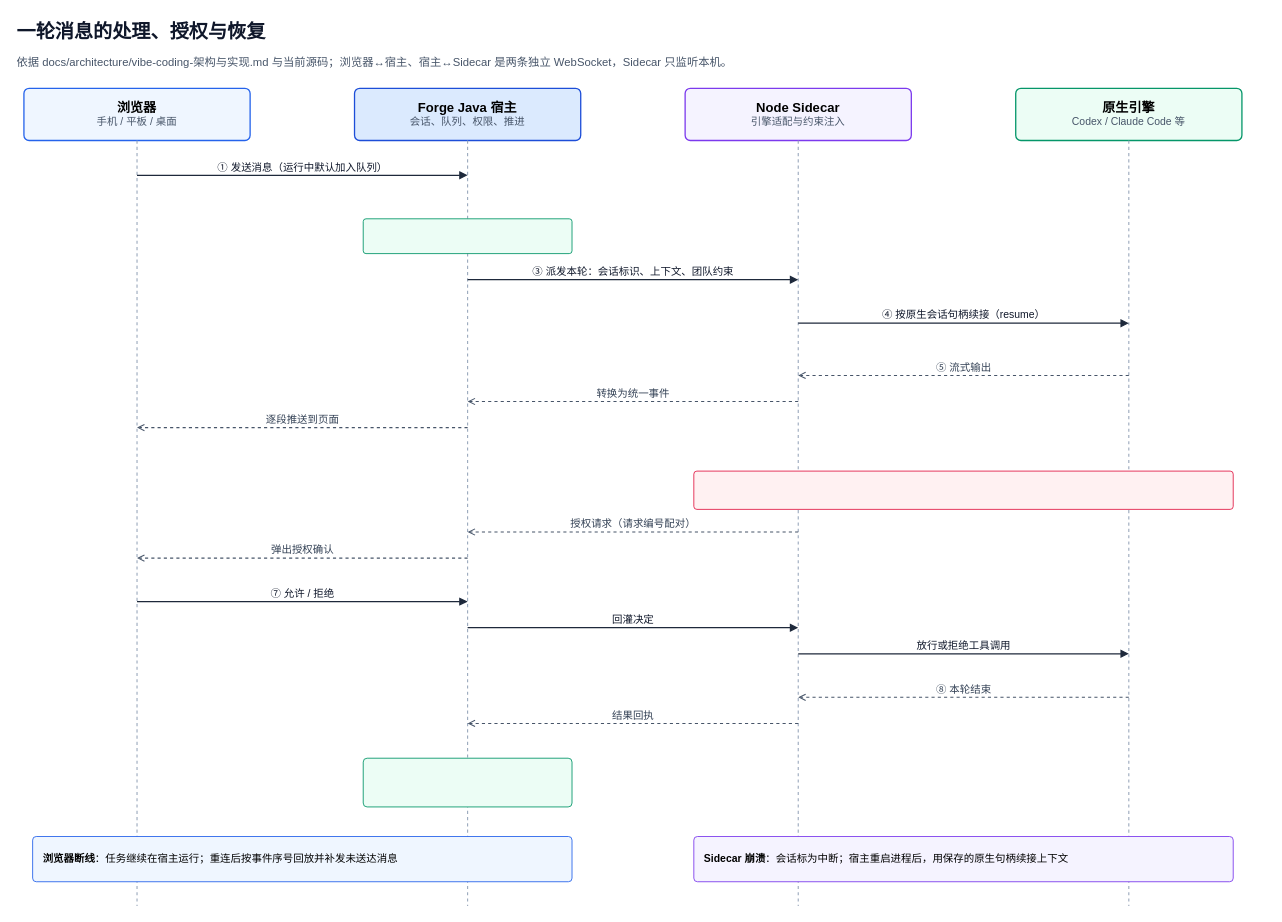
This 1282x922 diagram has some shape labels left out. The centre of each missing label's shape, as x and y in pixels:
② 写入持久队列；空闲时准入本轮: point 467,236
⑥ 需要执行工具：引擎回调挂起，等待用户决定: point 963,489
⑨ 完成核对：确认收口后放行下一条； 结果不明最多核对三次再挂起: point 467,782
